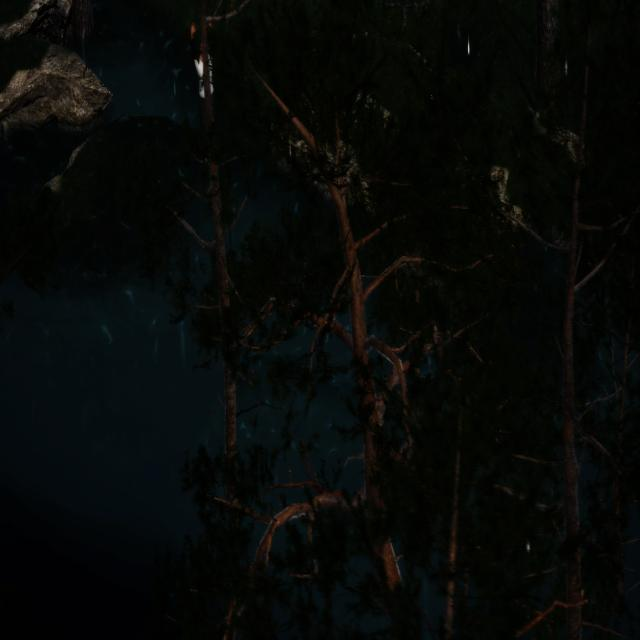Human: (187, 14, 222, 161)
